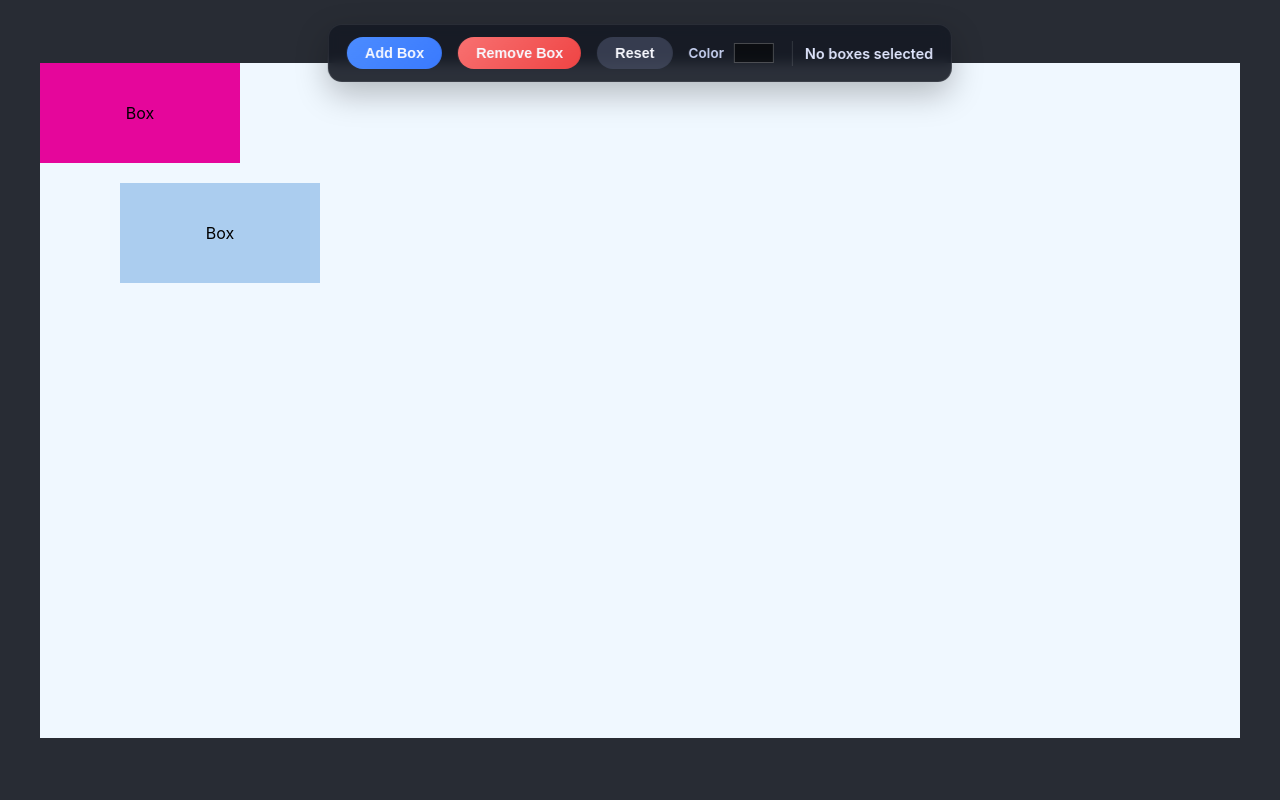
Test case: App › should remove all selected boxes when the user presses remove box then the selection summary resets
This screenshot has width=1280, height=800.
Click the 1st button "Box" at (140, 112), box x1=40 y1=62 x2=240 y2=162
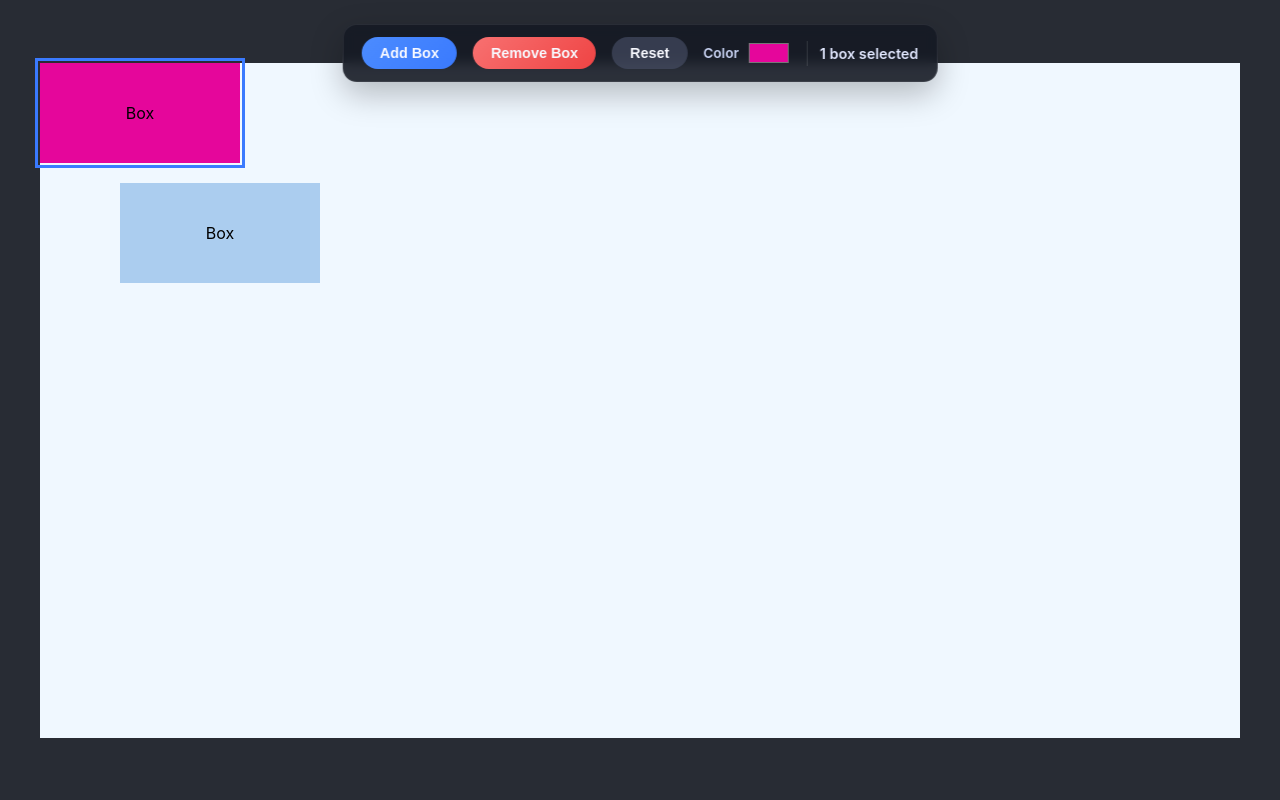
Click the 2nd button "Box" at (220, 232), box x1=120 y1=182 x2=320 y2=282
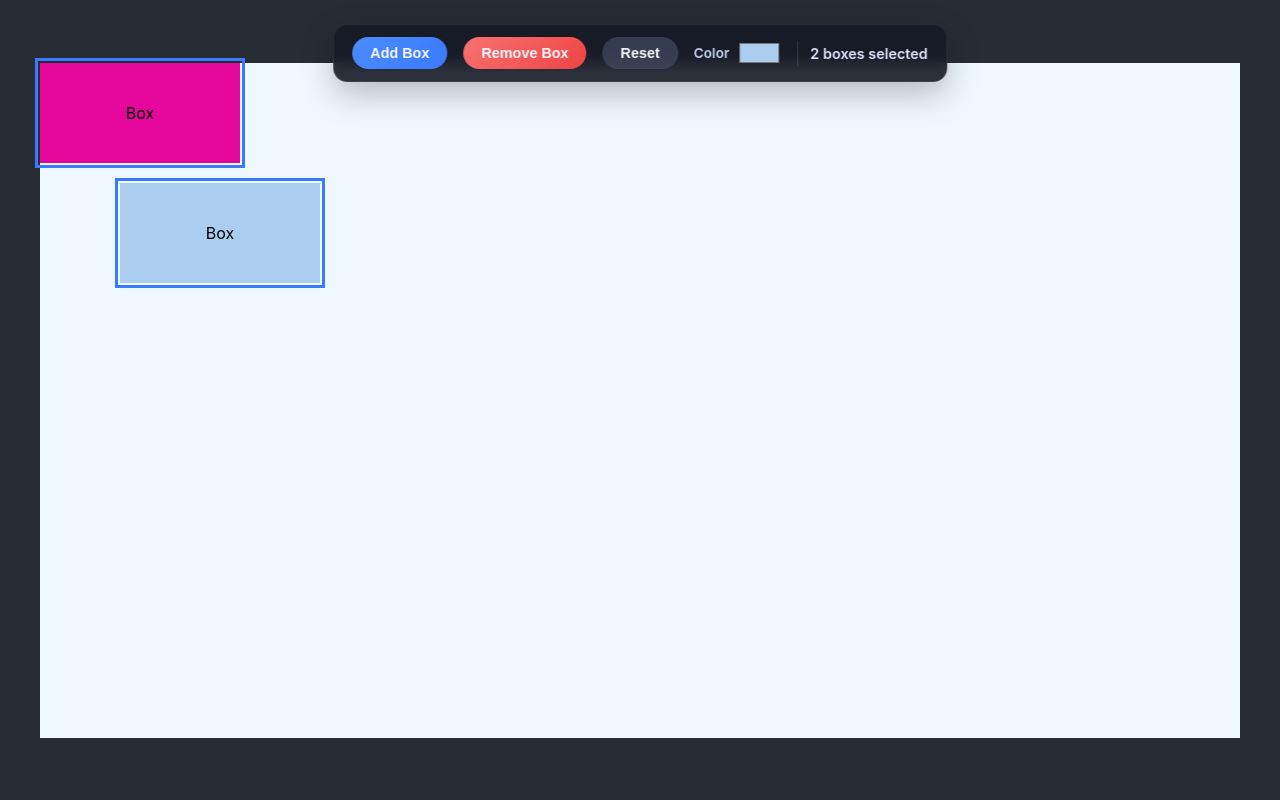
Click the button "Remove Box" at (525, 53), box x1=463 y1=37 x2=587 y2=69
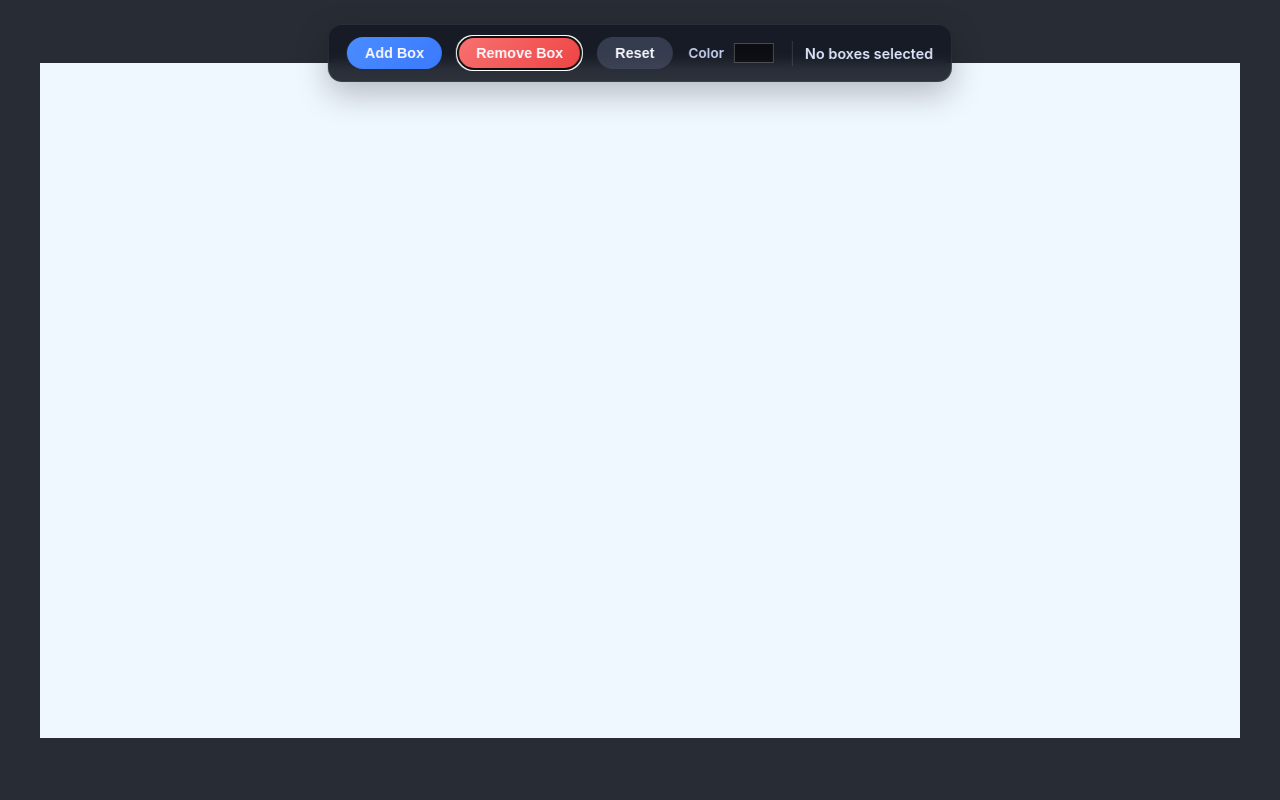
Check: no buttons "Box" are shown
Check: the text "No boxes selected" is shown, box x1=792 y1=40 x2=933 y2=66
